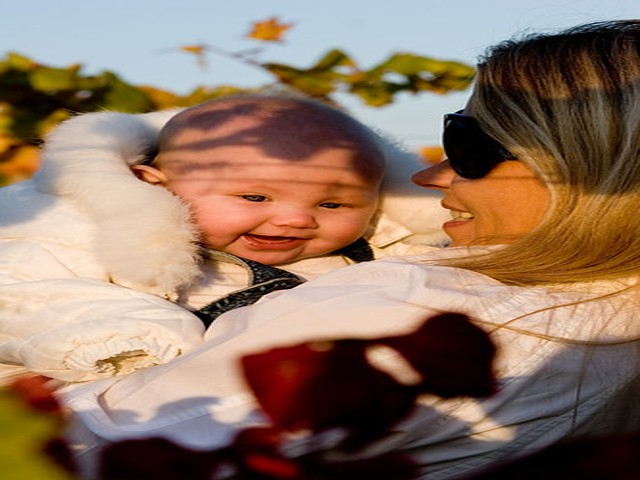Person: (36, 16, 636, 459)
